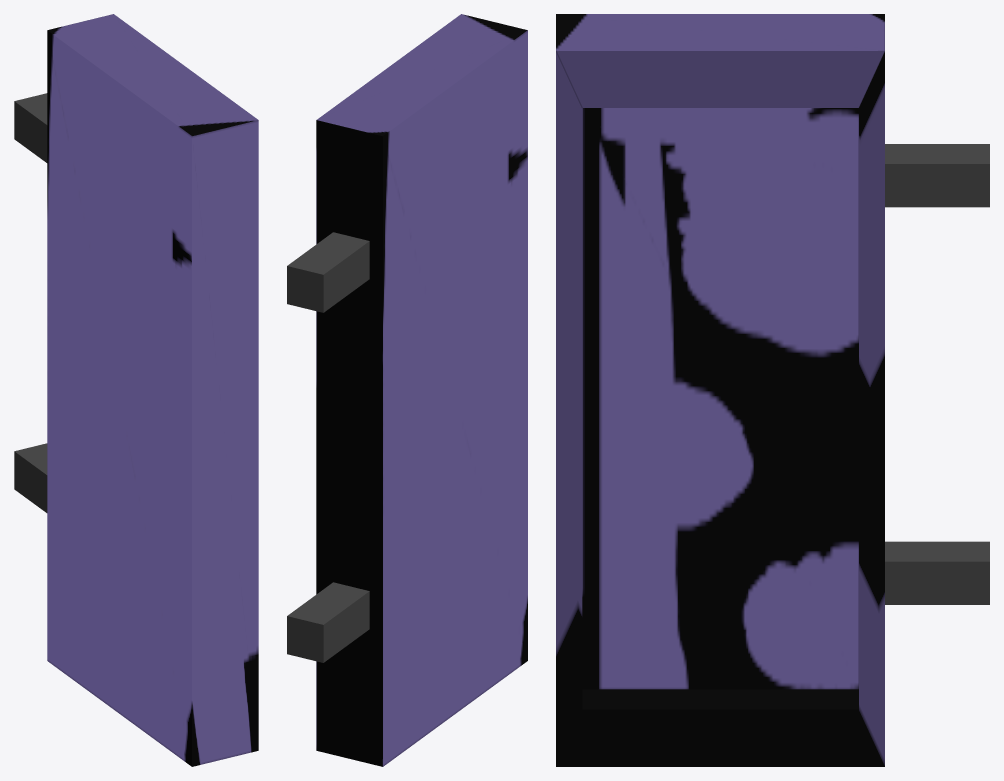
File: neon light 3.glb
3 views of the same model, side by side, from view 1: azimuth 30°, elevation 25°; view 2: azimuth 150°, elevation 25°; view 3: azimuth 270°, elevation 25° (orthographic). The views are drawn at different scales.
Visible parts, largest first — view 1: lampu.002; view 2: lampu.002; view 3: lampu.002.
Boxes of the visible parts, x1,y1,x2,y2 form: lampu.002: (14, 14, 258, 766); lampu.002: (287, 14, 527, 766); lampu.002: (556, 14, 989, 766).
Size of the model in its own units: 0.2604 by 2.36 by 1.29.
